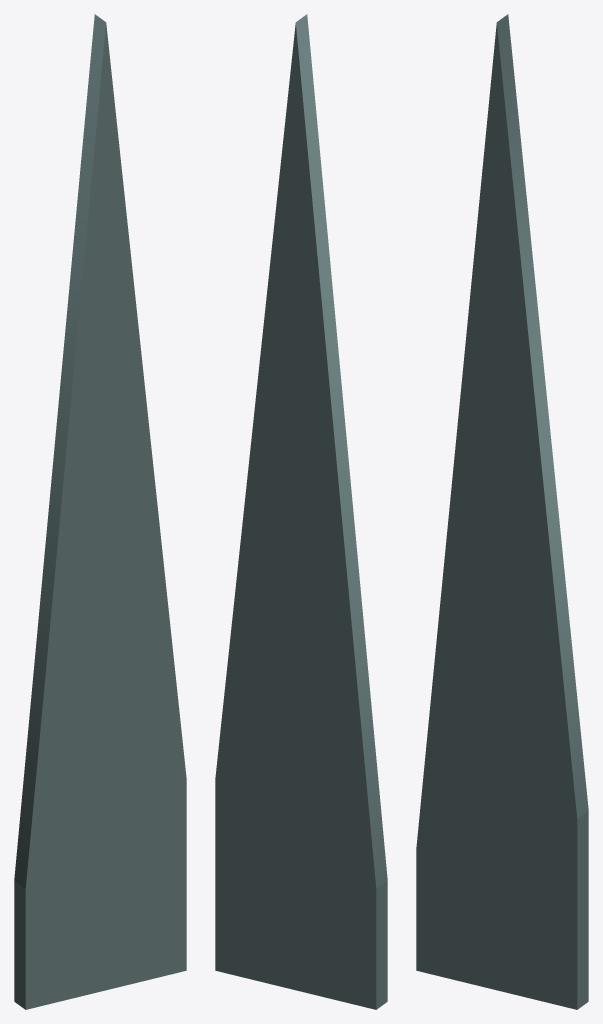
Rendered from grass4.fbx.
The picture shows the model from 3 angles, left to right: view 1: azimuth 30°, elevation 25°; view 2: azimuth 150°, elevation 25°; view 3: azimuth 330°, elevation 25°; orthographic projection.
Visible parts, largest first — view 1: grass4; view 2: grass4; view 3: grass4.
Boxes of the visible parts, bbox=[...] form: grass4: bbox=[14, 14, 186, 1009]; grass4: bbox=[215, 14, 387, 1009]; grass4: bbox=[416, 14, 588, 1009].
Size of the model in its own units: 11.35 by 65.15 by 1.4.
